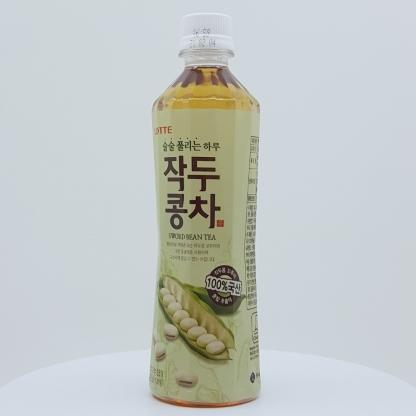--------------500ML: (149, 13, 261, 409)
